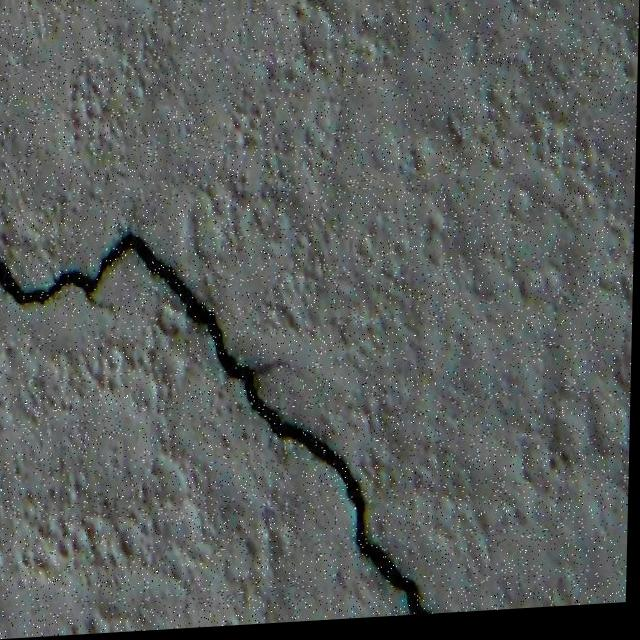Crack: (0, 205, 448, 640)
